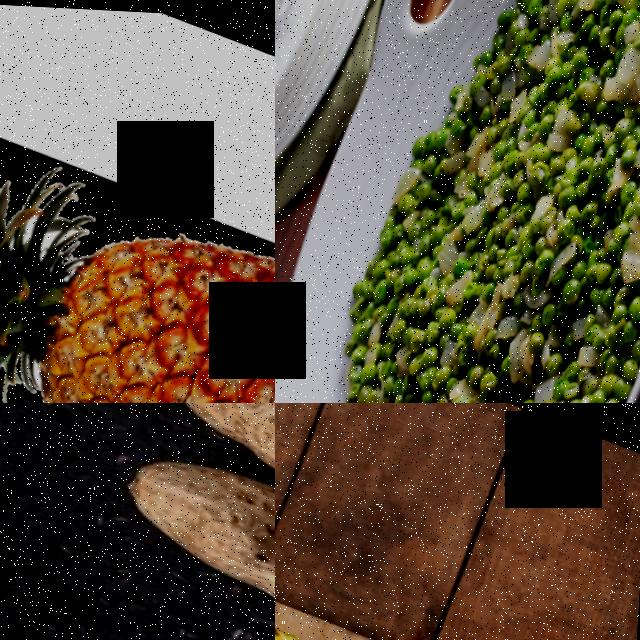peanuts: (102, 432, 275, 640), (143, 403, 275, 539)
peas: (548, 113, 631, 242), (574, 270, 640, 403), (517, 43, 582, 136), (370, 369, 449, 403)
pineapple: (0, 138, 275, 403)
